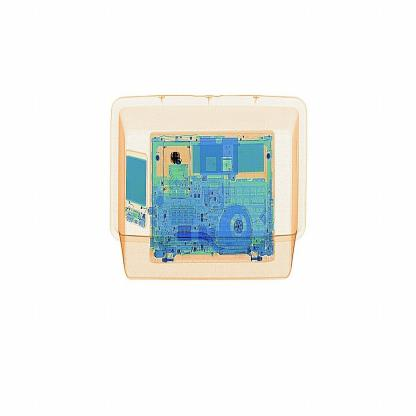scissors: (164, 147, 188, 183)
